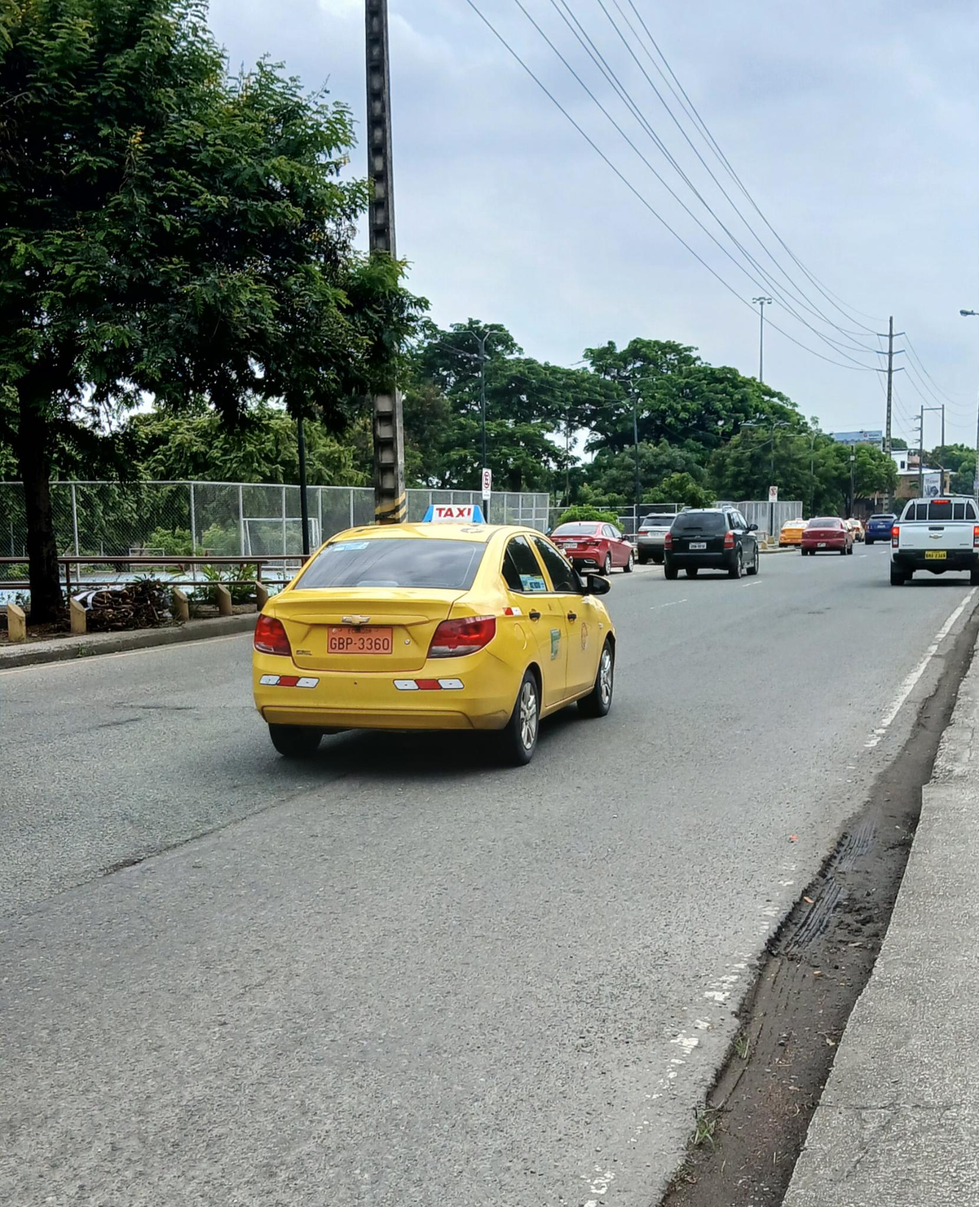license_plate: (326, 626, 395, 654), (923, 549, 946, 559), (559, 542, 579, 550), (687, 541, 706, 549), (817, 542, 830, 548)
